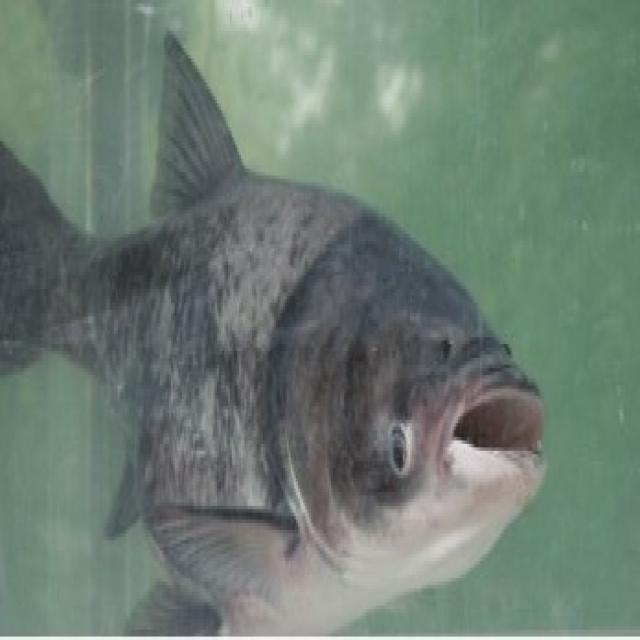Big-Head-Carp: (2, 4, 565, 636)
